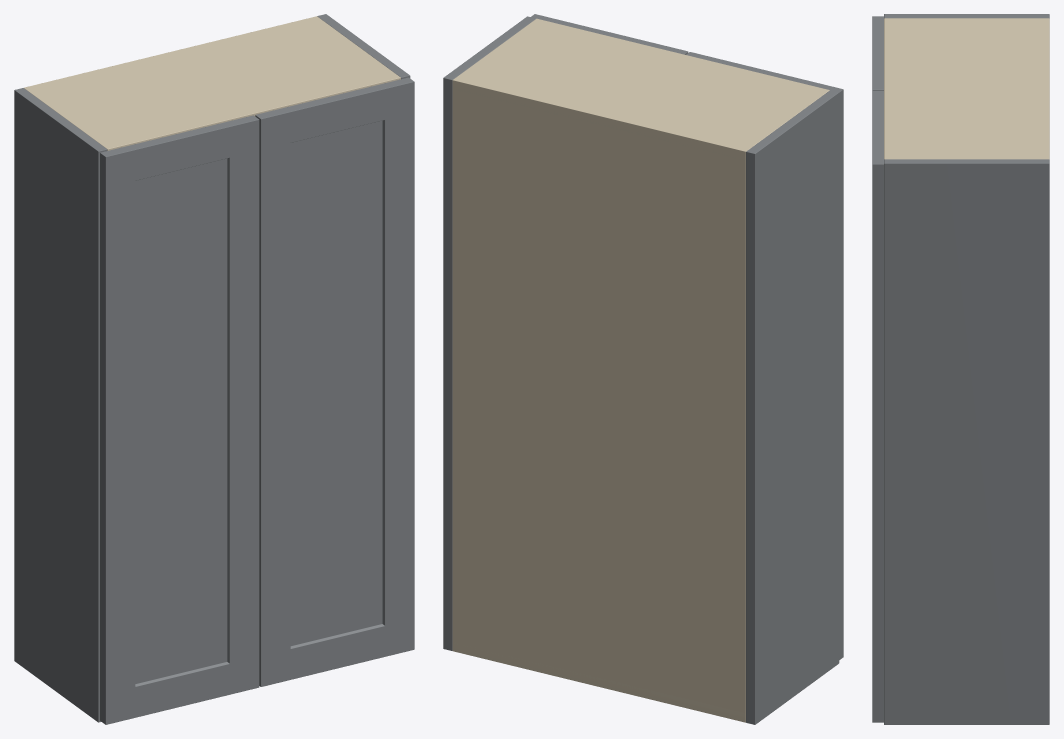
Rendered from oppein-ply-gss-w2442.glb.
The picture shows the model from 3 angles, left to right: view 1: azimuth 30°, elevation 25°; view 2: azimuth 150°, elevation 25°; view 3: azimuth 270°, elevation 25°; orthographic projection.
Parts seen in each view (by area): view 1: Door, Door.001, Cabinet side, Cabinet top, Cabinet side.001; view 2: Cabinet back, Cabinet side, Cabinet top, Cabinet side.001, Door, Cabinet bottom, Door.001; view 3: Cabinet side.001, Cabinet top, Door.001, Door, Cabinet side.
Boxes of the visible parts, box(x1,y1,x2,y2) form: Door: box(100, 115, 259, 724); Door.001: box(255, 77, 414, 686); Cabinet side: box(14, 88, 107, 722); Cabinet top: box(24, 16, 400, 150); Cabinet side.001: box(317, 14, 410, 79); Cabinet back: box(452, 80, 745, 713); Cabinet side: box(746, 90, 839, 724); Cabinet top: box(452, 18, 829, 158); Cabinet side.001: box(443, 16, 536, 650); Door: box(686, 52, 843, 659); Cabinet bottom: box(453, 642, 745, 722); Door.001: box(531, 14, 688, 54); Cabinet side.001: box(884, 159, 1049, 724); Cabinet top: box(884, 18, 1049, 159); Door.001: box(872, 90, 883, 722); Door: box(872, 16, 883, 90); Cabinet side: box(884, 14, 1049, 18).
Bounding box in the file's own units: 0.6096 × 1.07 × 0.3048.
